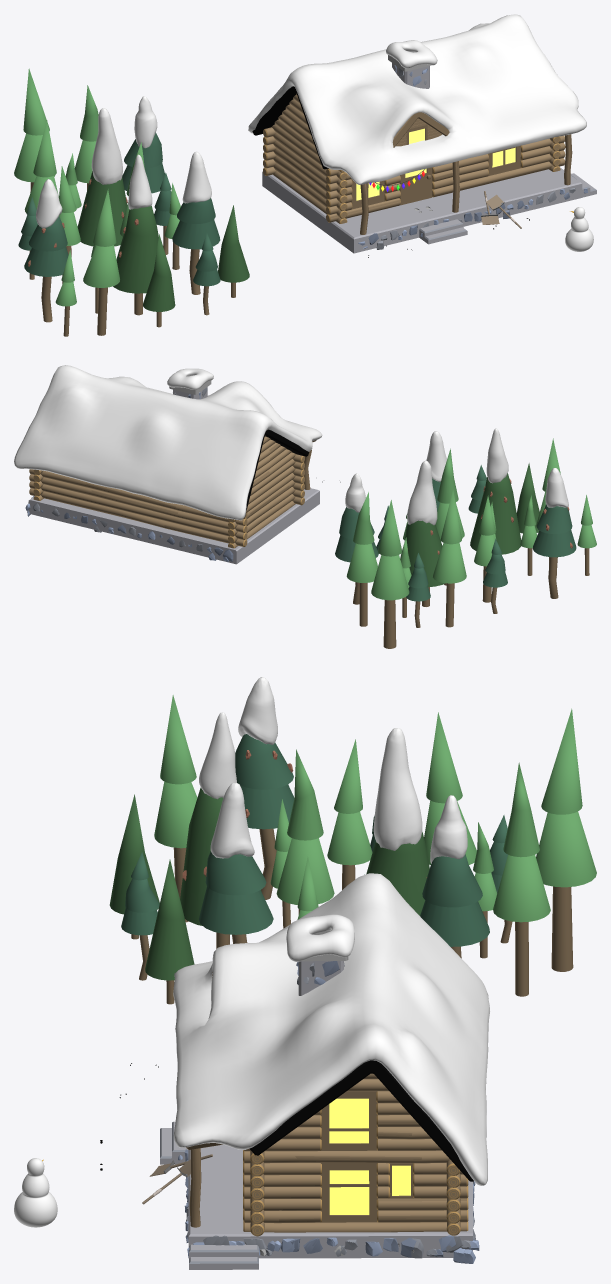
File: cabin-winter.glb
3 renders of one model, top to bottom at view 1: azimuth 30°, elevation 25°; view 2: azimuth 150°, elevation 25°; view 3: azimuth 270°, elevation 25°, orthographic. The views are drawn at different scales.
Parts seen in each view (by area): view 1: Snow1, Walls, pCube64, Trees:pCone13polySurface328, Trees:pCone23polySurface330, polySurface521, polySurface369, polySurface335, polySurface362, polySurface377, polySurface384, polySurface520 (+24 smaller); view 2: Snow1, Walls, pCube64, Trees:pCone13polySurface328, Trees:pCone23polySurface330, polySurface521, polySurface334, polySurface340, polySurface343, polySurface384, polySurface522, polySurface386 (+17 smaller); view 3: Snow1, Walls, pCube64, polySurface521, polySurface334, pCube2, polySurface335, Trees:pCone13polySurface328, polySurface343, Trees:pCone23polySurface330, polySurface377, polySurface371 (+32 smaller).
Boxes of the visible parts, box(x1,y1,x2,y2) form: Snow1: box(248, 14, 586, 184); Walls: box(263, 93, 565, 223); pCube64: box(262, 167, 582, 253); Trees:pCone13polySurface328: box(113, 206, 158, 293); Trees:pCone23polySurface330: box(77, 171, 127, 246); polySurface521: box(91, 108, 122, 184); polySurface369: box(143, 234, 175, 311); polySurface335: box(218, 205, 249, 282); polySurface362: box(83, 245, 119, 287); polySurface377: box(172, 219, 220, 249); polySurface384: box(24, 247, 68, 276); polySurface520: box(182, 151, 211, 203); Snow1: box(14, 365, 322, 520); Walls: box(29, 435, 304, 548); pCube64: box(28, 488, 319, 564); Trees:pCone13polySurface328: box(470, 473, 521, 554); Trees:pCone23polySurface330: box(404, 520, 444, 587); polySurface521: box(407, 460, 437, 525); polySurface334: box(371, 555, 409, 600); polySurface340: box(433, 542, 466, 583); polySurface343: box(346, 543, 377, 582); polySurface384: box(532, 530, 576, 557); polySurface522: box(486, 428, 508, 483); polySurface386: box(537, 504, 572, 533); Snow1: box(173, 873, 489, 1185); Walls: box(243, 1073, 468, 1236); pCube64: box(188, 1144, 472, 1258); polySurface521: box(373, 728, 422, 850); polySurface334: box(536, 811, 596, 887); pCube2: box(249, 1060, 473, 1181); polySurface335: box(145, 859, 194, 980); Trees:pCone13polySurface328: box(180, 787, 261, 925); polySurface343: box(493, 854, 550, 922); Trees:pCone23polySurface330: box(366, 832, 429, 915); polySurface377: box(199, 887, 273, 934); polySurface371: box(276, 838, 334, 904).
Bounding box in the file's own units: 33.23 × 10.09 × 19.8.
